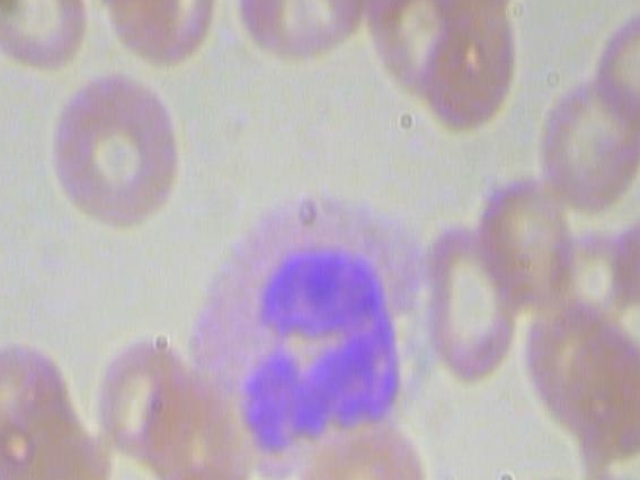RBC: (36, 71, 182, 235), (418, 216, 521, 382), (536, 74, 640, 214), (90, 0, 224, 75), (233, 0, 372, 59), (0, 0, 96, 72), (440, 0, 561, 5)
WBC: (182, 175, 448, 480)
